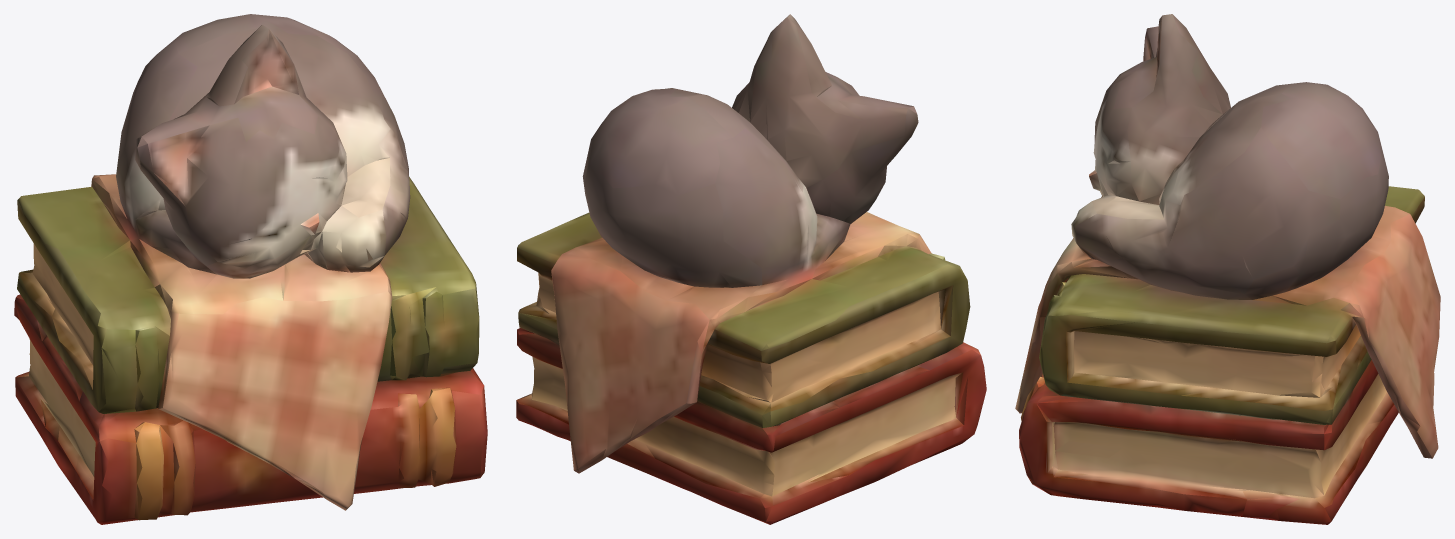
The model's file is deco48.glb.
3 views of the same model, side by side, from view 1: azimuth 30°, elevation 25°; view 2: azimuth 150°, elevation 25°; view 3: azimuth 270°, elevation 25° (orthographic). The views are drawn at different scales.
Size of the model in its own units: 0.208 by 0.2141 by 0.199.
1 material, 1 textured.
